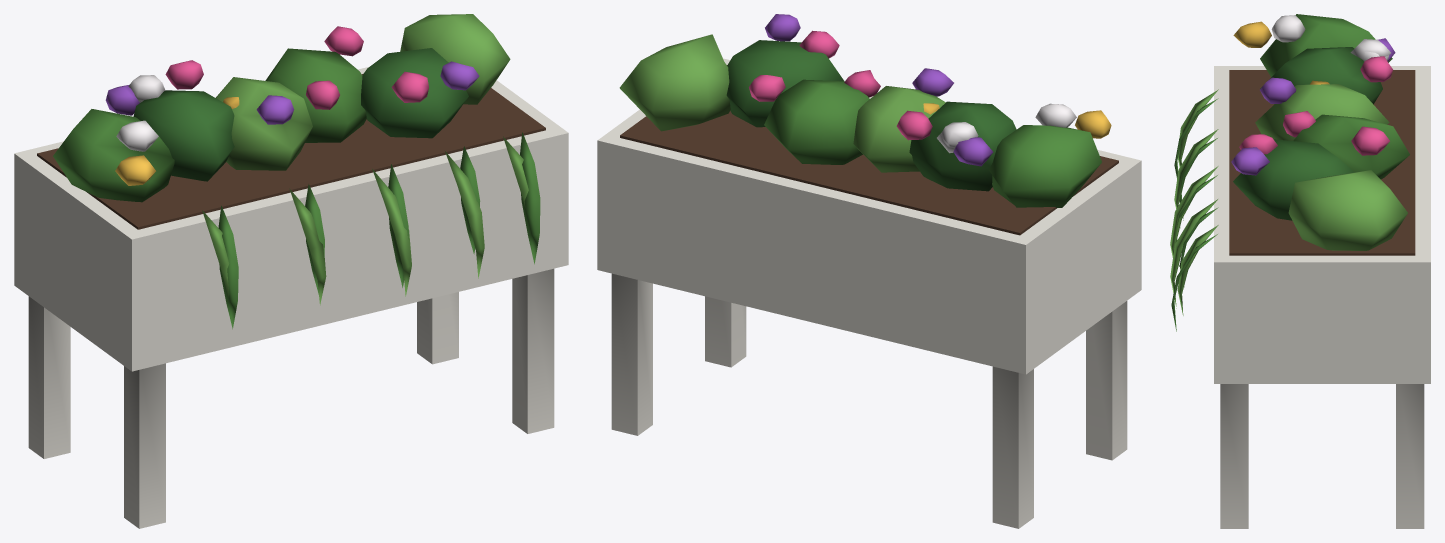
File: flowerBox.far.glb
3 views of the same model, side by side, from view 1: azimuth 30°, elevation 25°; view 2: azimuth 150°, elevation 25°; view 3: azimuth 270°, elevation 25° (orthographic). The views are drawn at different scales.
Parts seen in each view (by area): view 1: flowerBox; view 2: flowerBox; view 3: flowerBox.
Boxes of the visible parts, <box> form: flowerBox: <box>14,14,568,528</box>; flowerBox: <box>597,14,1141,528</box>; flowerBox: <box>1170,14,1430,528</box>.
Bounding box in the file's own units: 0.9174 × 0.7322 × 0.5047.
